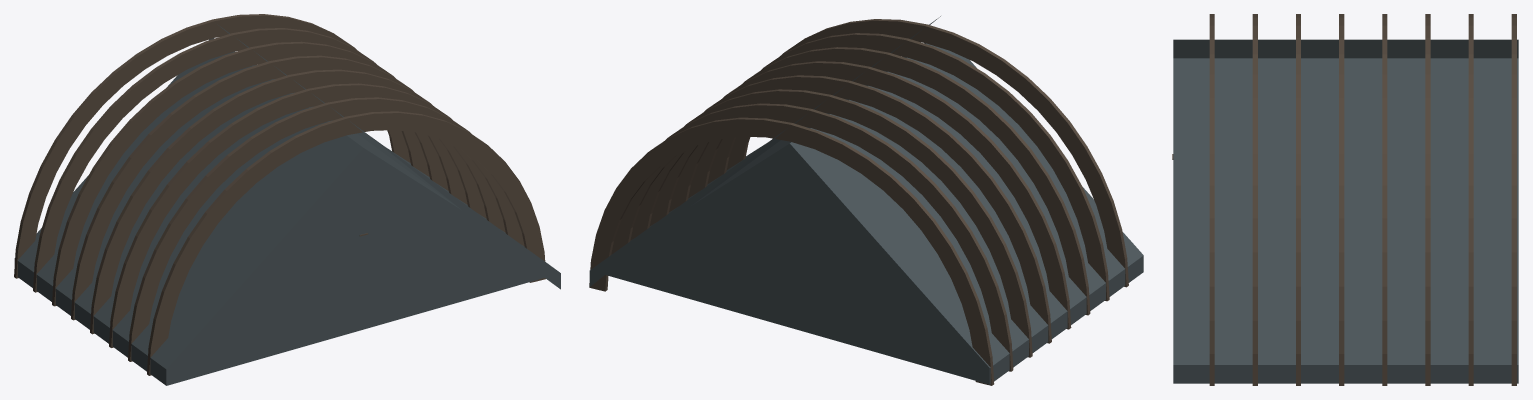
The model's file is sawtooth-roof-1.glb.
The picture shows the model from 3 angles, left to right: view 1: azimuth 30°, elevation 25°; view 2: azimuth 150°, elevation 25°; view 3: azimuth 270°, elevation 25°; orthographic projection. The views are drawn at different scales.
Visible parts, largest first — view 1: sawtooth-roof/0/KR-230-1; view 2: sawtooth-roof/0/KR-230-1; view 3: sawtooth-roof/0/KR-230-1.
Boxes of the visible parts, x1,y1,x2,y2 form: sawtooth-roof/0/KR-230-1: (14,14,560,385); sawtooth-roof/0/KR-230-1: (589,16,1143,385); sawtooth-roof/0/KR-230-1: (1172,14,1518,385).
Size of the model in its own units: 12.08 by 6.08 by 8.02.
